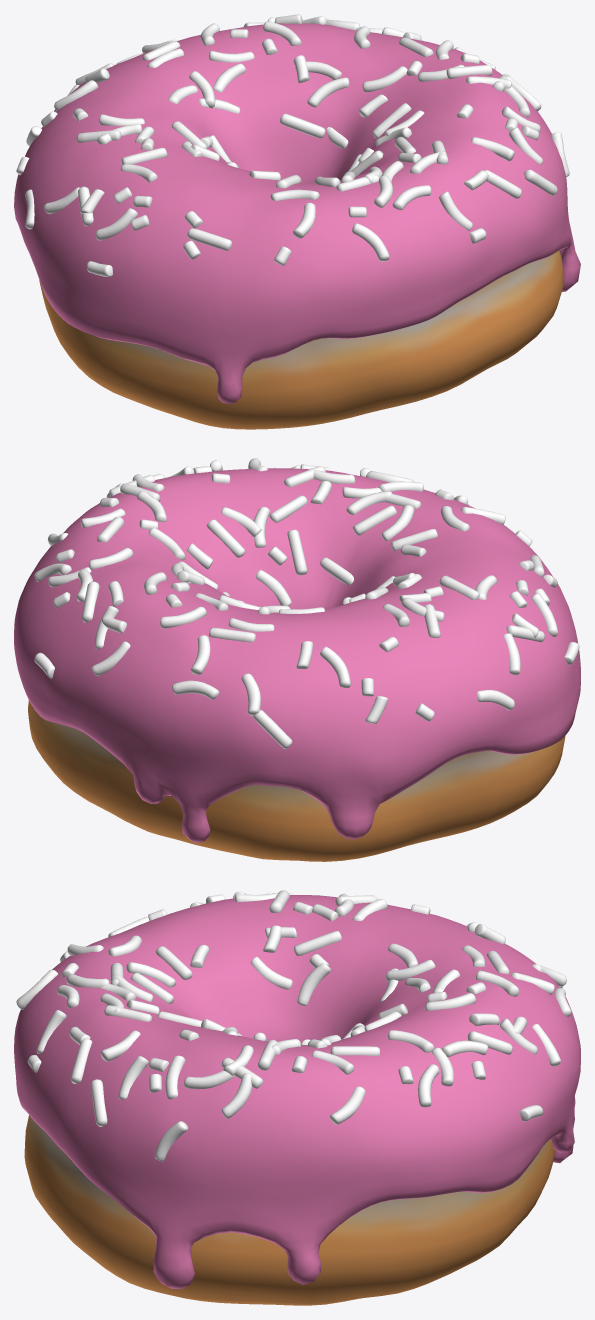
Rendered from donut.glb.
3 renders of one model, top to bottom at view 1: azimuth 30°, elevation 25°; view 2: azimuth 150°, elevation 25°; view 3: azimuth 270°, elevation 25°, orthographic. The views are drawn at different scales.
Parts seen in each view (by area): view 1: icing, donut; view 2: icing, donut; view 3: icing, donut.
Part boxes in pixels (left/top/right/bottom): icing: left=14, top=14, right=580, bottom=404; donut: left=39, top=250, right=563, bottom=429; icing: left=14, top=458, right=580, bottom=842; donut: left=28, top=700, right=565, bottom=861; icing: left=14, top=890, right=580, bottom=1289; donut: left=24, top=1115, right=554, bottom=1305.
Size of the model in its own units: 0.0943 by 0.0454 by 0.0899.
3 materials, 1 textured.
